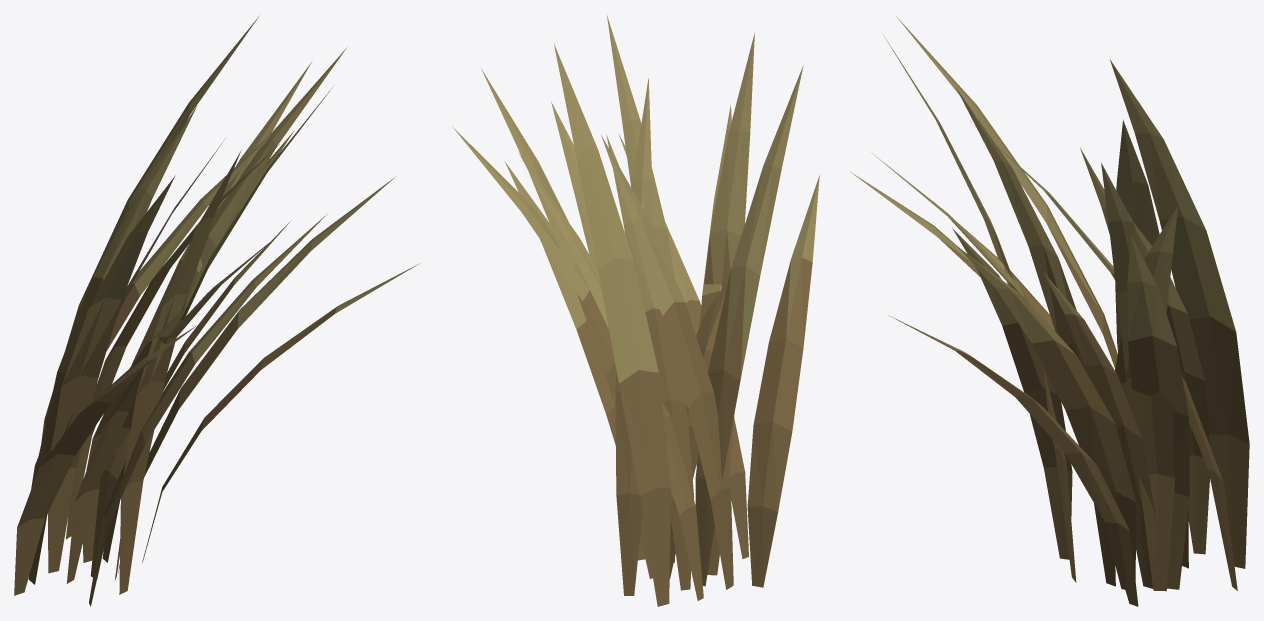
File: grass_tuft_f_autumn.glb
3 renders of one model, left to right at view 1: azimuth 30°, elevation 25°; view 2: azimuth 150°, elevation 25°; view 3: azimuth 270°, elevation 25°, orthographic. The views are drawn at different scales.
Visible parts, largest first — view 1: geometry; view 2: geometry; view 3: geometry.
Part boxes in pixels (x1=…): geometry: x1=14, y1=16, x2=419, y2=606; geometry: x1=452, y1=15, x2=819, y2=606; geometry: x1=850, y1=16, x2=1249, y2=606.
Size of the model in its own units: 0.22 by 0.34 by 0.2037.
